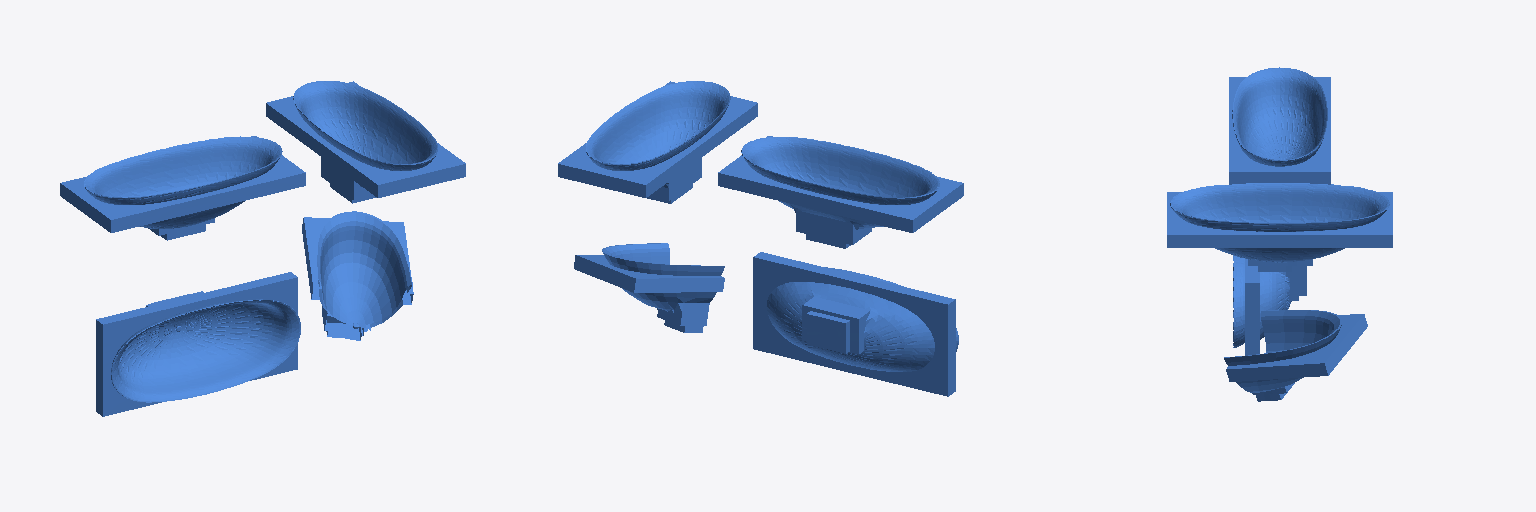
Rendered from 878316_VASCA.obj.
The picture shows the model from 3 angles: view 1: azimuth 30°, elevation 25°; view 2: azimuth 150°, elevation 25°; view 3: azimuth 270°, elevation 25°; orthographic projection.
Parts seen in each view (by area): view 1: Box009, Box006, Box008, Box007; view 2: Box009, Box006, Box008, Box007; view 3: Box008, Box006, Box007, Box009.
Boxes of the visible parts, box(x1,y1,x2,y2) form: Box009: box(96, 272, 300, 416); Box006: box(60, 136, 305, 240); Box008: box(266, 81, 465, 203); Box007: box(302, 211, 413, 340); Box009: box(753, 252, 958, 396); Box006: box(718, 136, 963, 248); Box008: box(558, 81, 757, 203); Box007: box(574, 243, 724, 332); Box008: box(1167, 183, 1392, 271); Box006: box(1229, 67, 1330, 184); Box007: box(1224, 310, 1367, 401); Box009: box(1233, 255, 1306, 355).
Bounding box in the file's own units: 40.48 × 24.24 × 23.17.